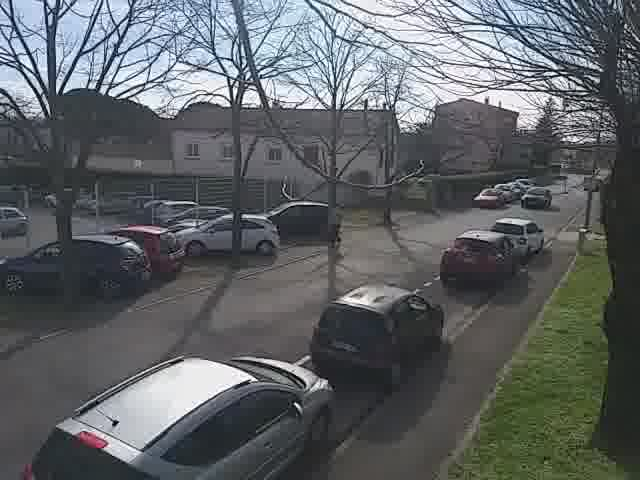persona: (324, 197, 345, 251)
